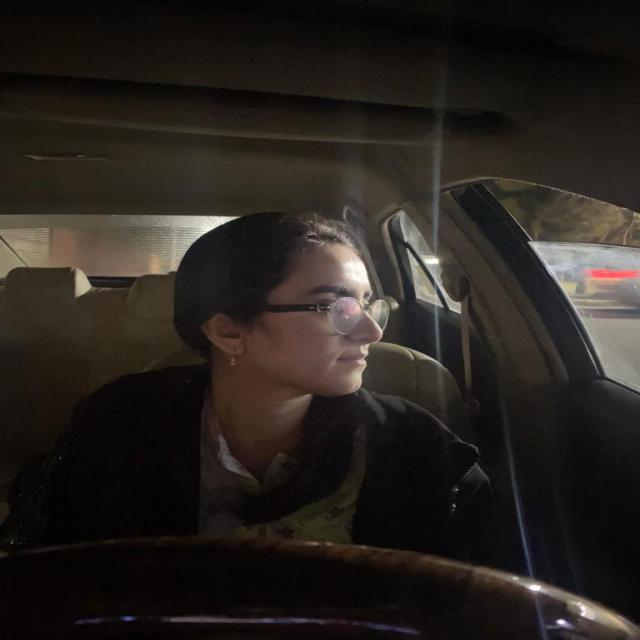LeftRight: (173, 200, 400, 416)
